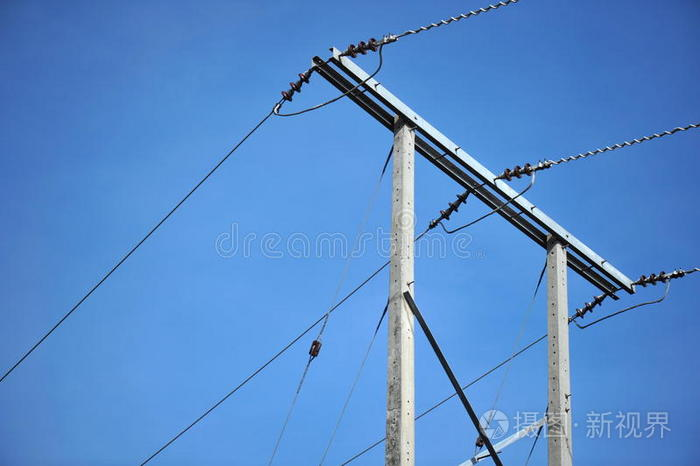insulator: (280, 72, 310, 103), (439, 194, 469, 219), (346, 36, 377, 60), (575, 293, 602, 318), (502, 162, 533, 181), (637, 270, 669, 288)
